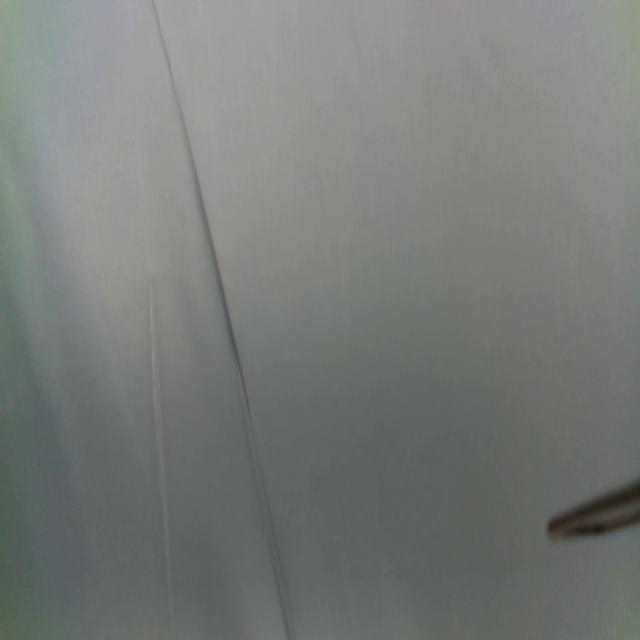crease: (152, 0, 291, 637), (149, 281, 175, 638)
